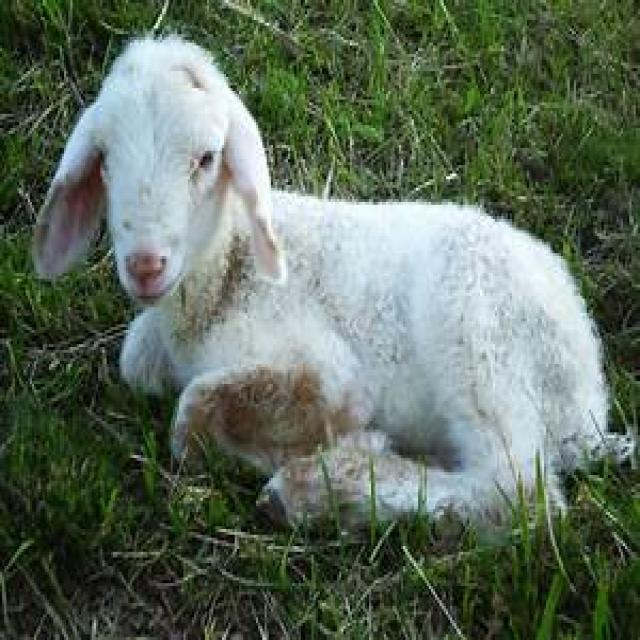sheep: (28, 29, 638, 546)
